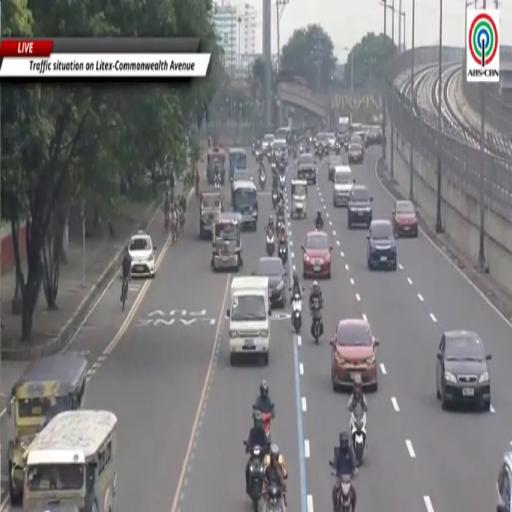car: (436, 330, 491, 410), (330, 318, 378, 391), (254, 258, 286, 307), (367, 219, 397, 270), (302, 231, 332, 278), (128, 231, 155, 278), (348, 185, 372, 229), (496, 451, 512, 512), (392, 200, 418, 237), (333, 166, 354, 206), (297, 154, 317, 184), (328, 156, 343, 181), (315, 132, 329, 157), (350, 132, 366, 153), (348, 142, 363, 164), (369, 125, 382, 145), (327, 133, 335, 150)
jeepney: (8, 352, 87, 505), (23, 410, 117, 511), (211, 213, 242, 270), (232, 181, 258, 231), (200, 191, 223, 238), (231, 170, 251, 205), (207, 148, 225, 184), (291, 180, 307, 218), (229, 148, 246, 181)
motorcycle: (244, 441, 264, 511), (350, 410, 366, 466), (264, 483, 284, 511), (337, 475, 352, 511), (311, 299, 321, 344), (260, 410, 273, 442), (292, 294, 302, 333), (275, 210, 285, 236), (278, 240, 287, 265), (267, 231, 275, 257), (259, 168, 266, 190), (272, 188, 278, 209), (315, 218, 323, 231), (214, 173, 220, 190), (279, 174, 285, 190), (255, 150, 262, 163), (335, 142, 341, 155), (293, 147, 297, 158), (252, 142, 255, 155), (300, 144, 303, 154)
